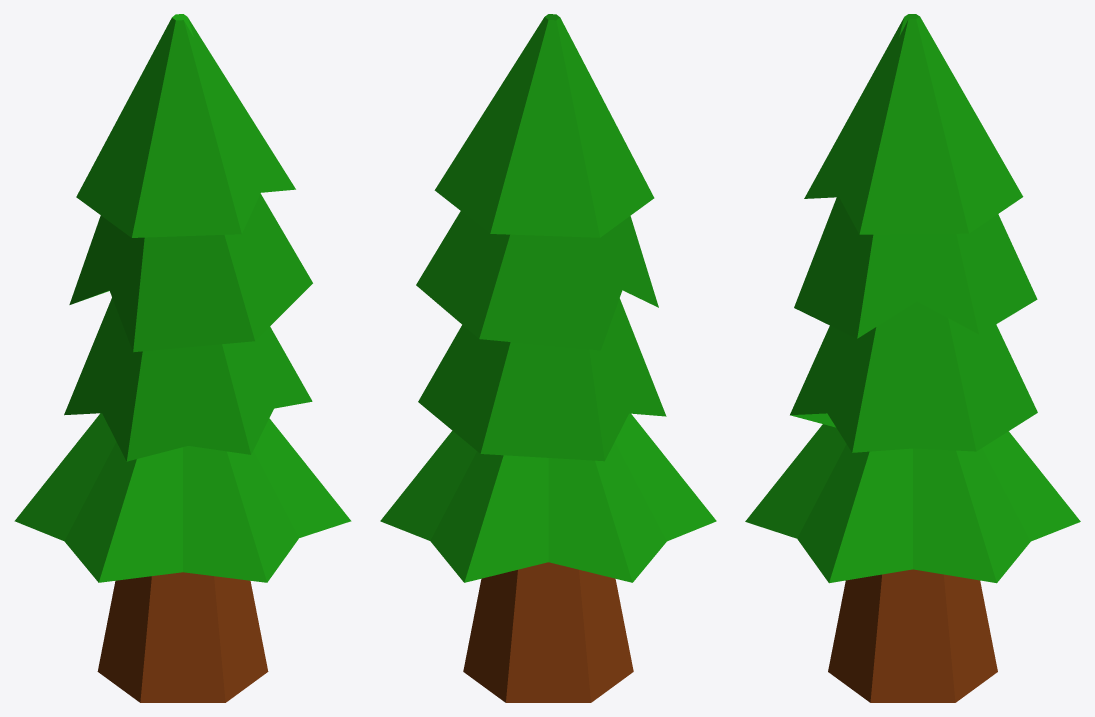
File: Tree01.glb
The picture shows the model from 3 angles, left to right: view 1: azimuth 30°, elevation 25°; view 2: azimuth 150°, elevation 25°; view 3: azimuth 270°, elevation 25°; orthographic projection.
Visible parts, largest first — view 1: Cylinder.002, Cylinder.005, Cylinder.004, Cylinder.003, Cylinder; view 2: Cylinder.002, Cylinder.005, Cylinder.003, Cylinder.004, Cylinder; view 3: Cylinder.002, Cylinder.005, Cylinder.003, Cylinder.004, Cylinder.
Part boxes in pixels (box(x1,y1,x2,y2)): Cylinder.002: box(14, 413, 351, 582); Cylinder.005: box(76, 14, 295, 237); Cylinder.004: box(69, 193, 312, 352); Cylinder.003: box(64, 297, 312, 461); Cylinder: box(97, 572, 268, 702); Cylinder.002: box(380, 413, 716, 582); Cylinder.005: box(434, 14, 654, 237); Cylinder.003: box(418, 298, 666, 461); Cylinder.004: box(416, 211, 658, 350); Cylinder: box(463, 562, 633, 702); Cylinder.002: box(745, 424, 1080, 583); Cylinder.005: box(804, 14, 1023, 234); Cylinder.003: box(790, 301, 1037, 452); Cylinder.004: box(794, 197, 1037, 338); Cylinder: box(828, 569, 997, 702).
Size of the model in its own units: 3.42 by 8.48 by 3.95.
